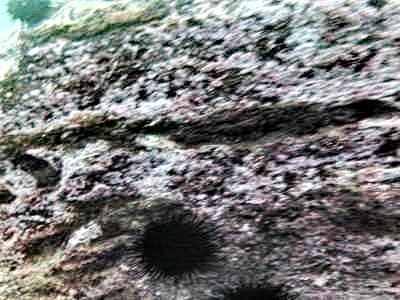urchin: (135, 211, 215, 281), (223, 279, 289, 296), (3, 3, 48, 20)
